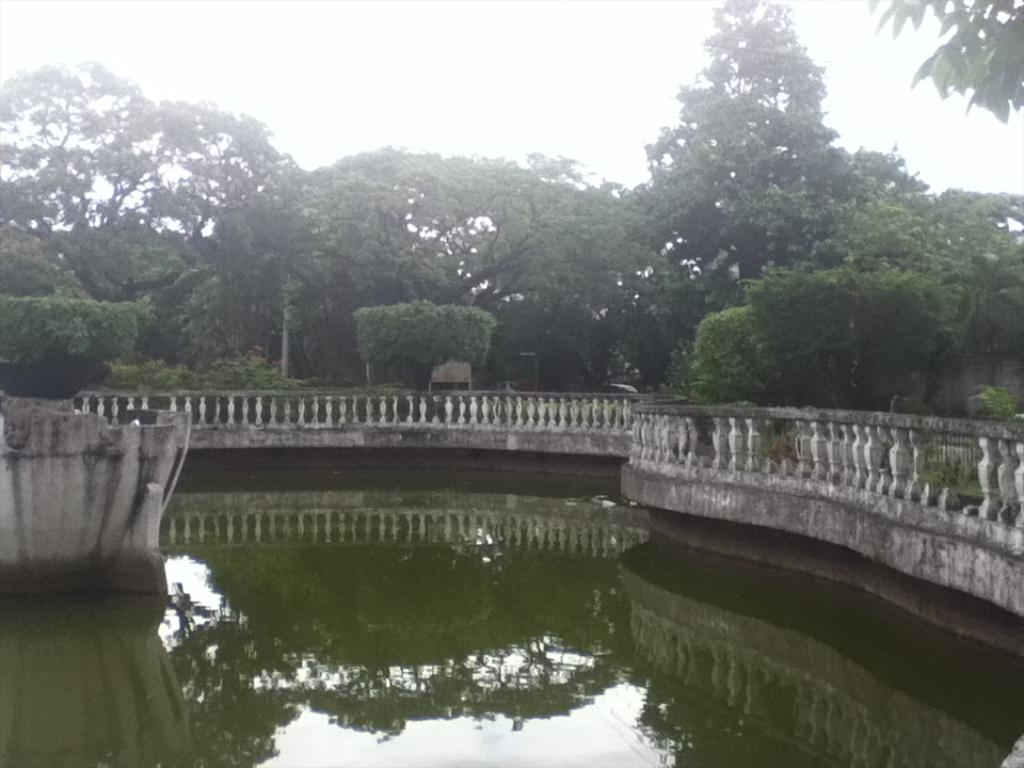Tree: (0, 0, 1024, 389)
